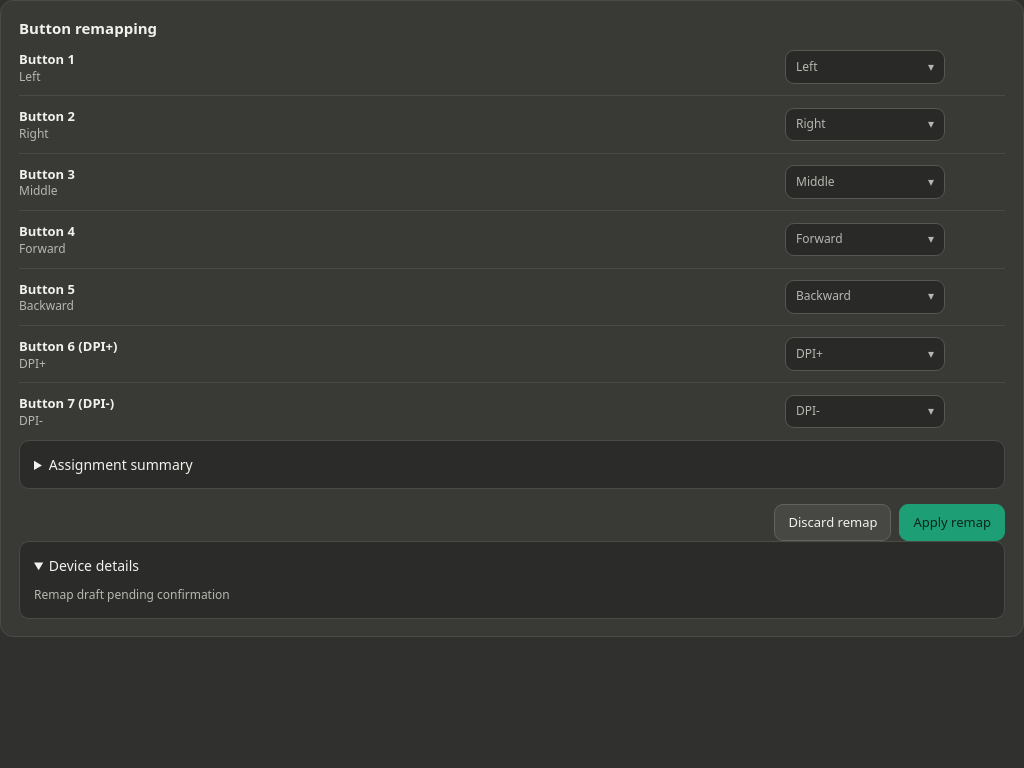
Scenario: ButtonRemapPanel › names playback modes by how they repeat and stop
The width and height of the screenshot is (1024, 768).
Click the button with aria-label "Button 6 action" at coordinates (865, 354), box x1=785 y1=337 x2=945 y2=371
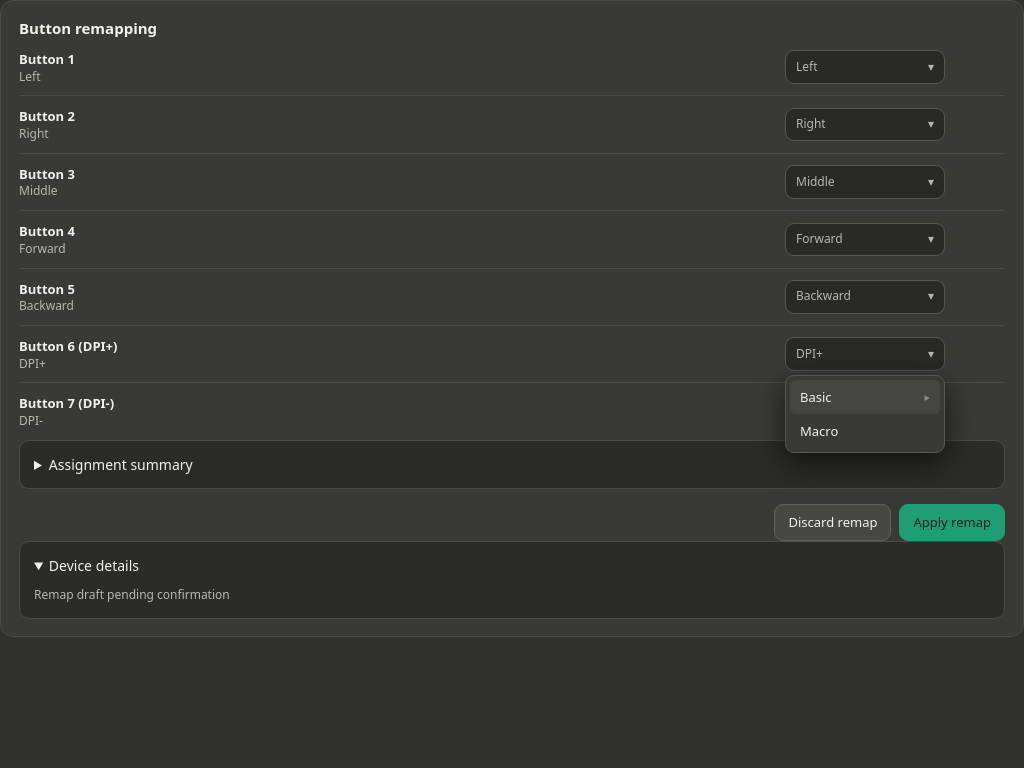
Click the menu item "Macro" at coordinates (819, 431), box x1=800 y1=422 x2=838 y2=440
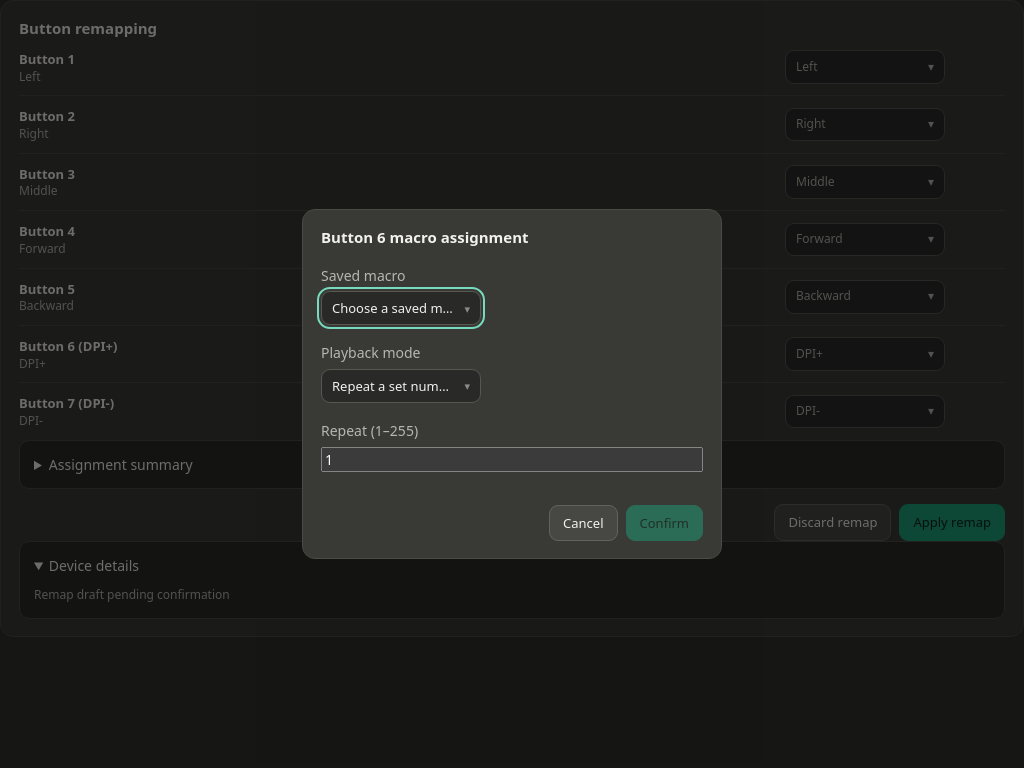
Expected: the button with aria-label "Playback mode" shows "Repeat a set number of times"
Click the button with aria-label "Playback mode" at coordinates (401, 386), box x1=321 y1=369 x2=481 y2=403
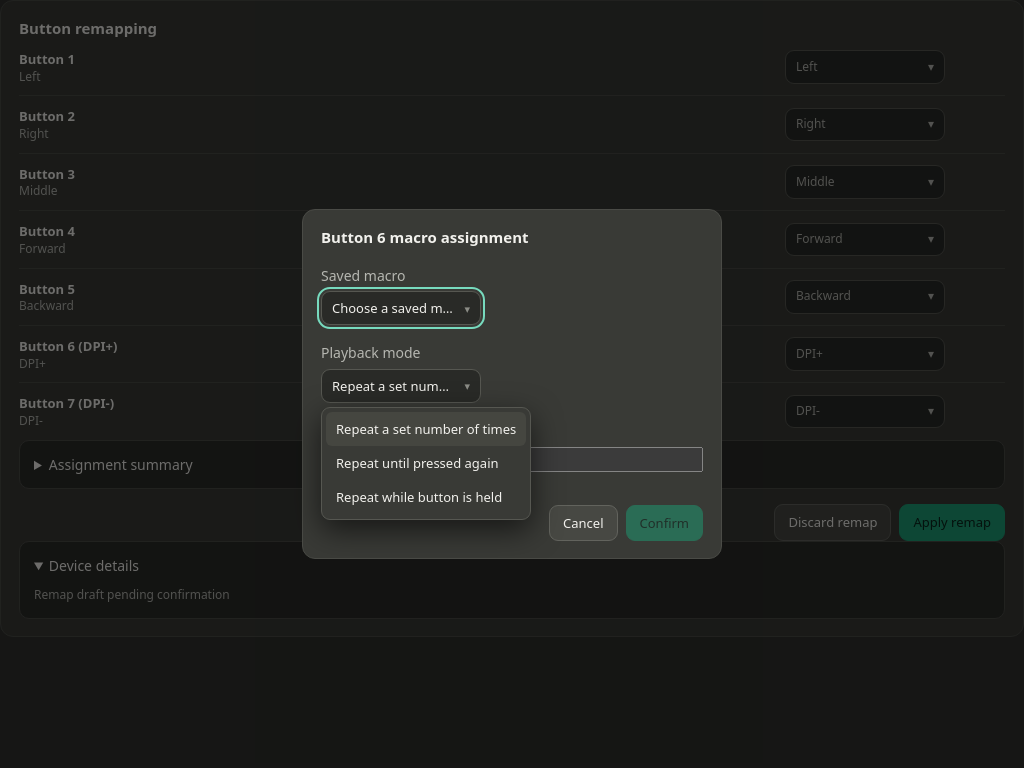
Expected: the menu item "Repeat until pressed again" is shown, x1=336 y1=454 x2=498 y2=472
Expected: the menu item "Repeat while button is held" is shown, x1=336 y1=488 x2=502 y2=506
